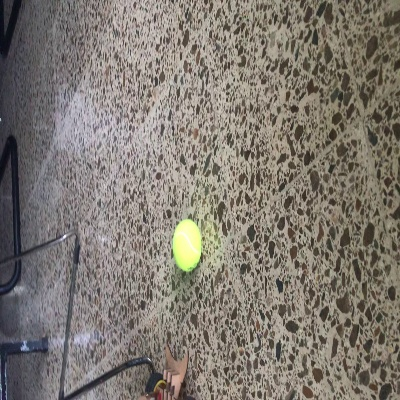Ball: (172, 220, 201, 272)
